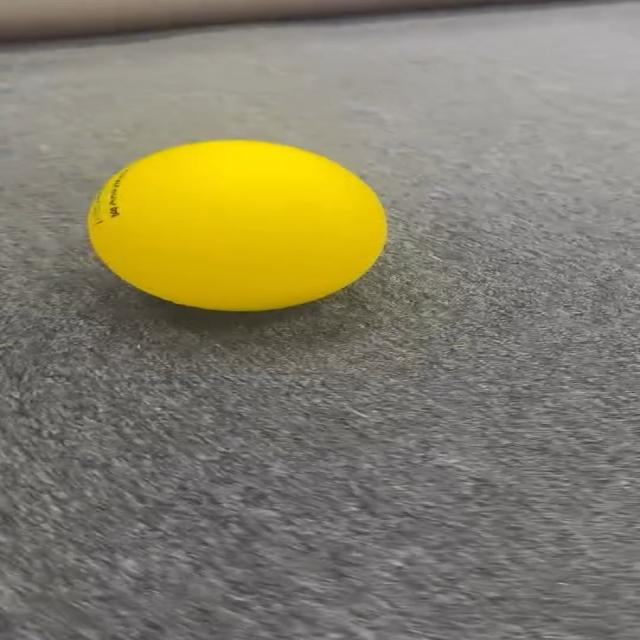Fuels: (90, 142, 382, 308)
